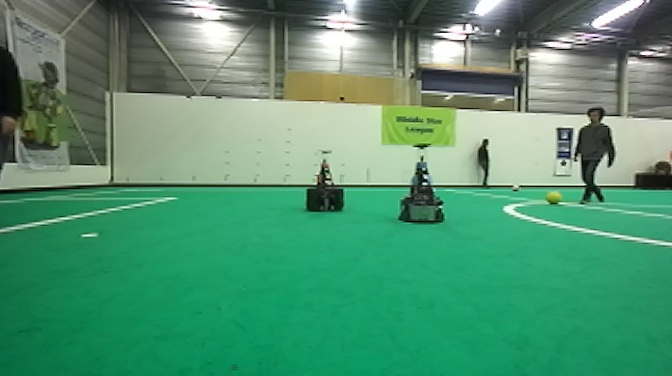ball: (545, 190, 563, 207), (509, 181, 523, 194)
human: (572, 103, 617, 207), (473, 133, 495, 189)
robot: (396, 141, 447, 225), (306, 148, 347, 212)
